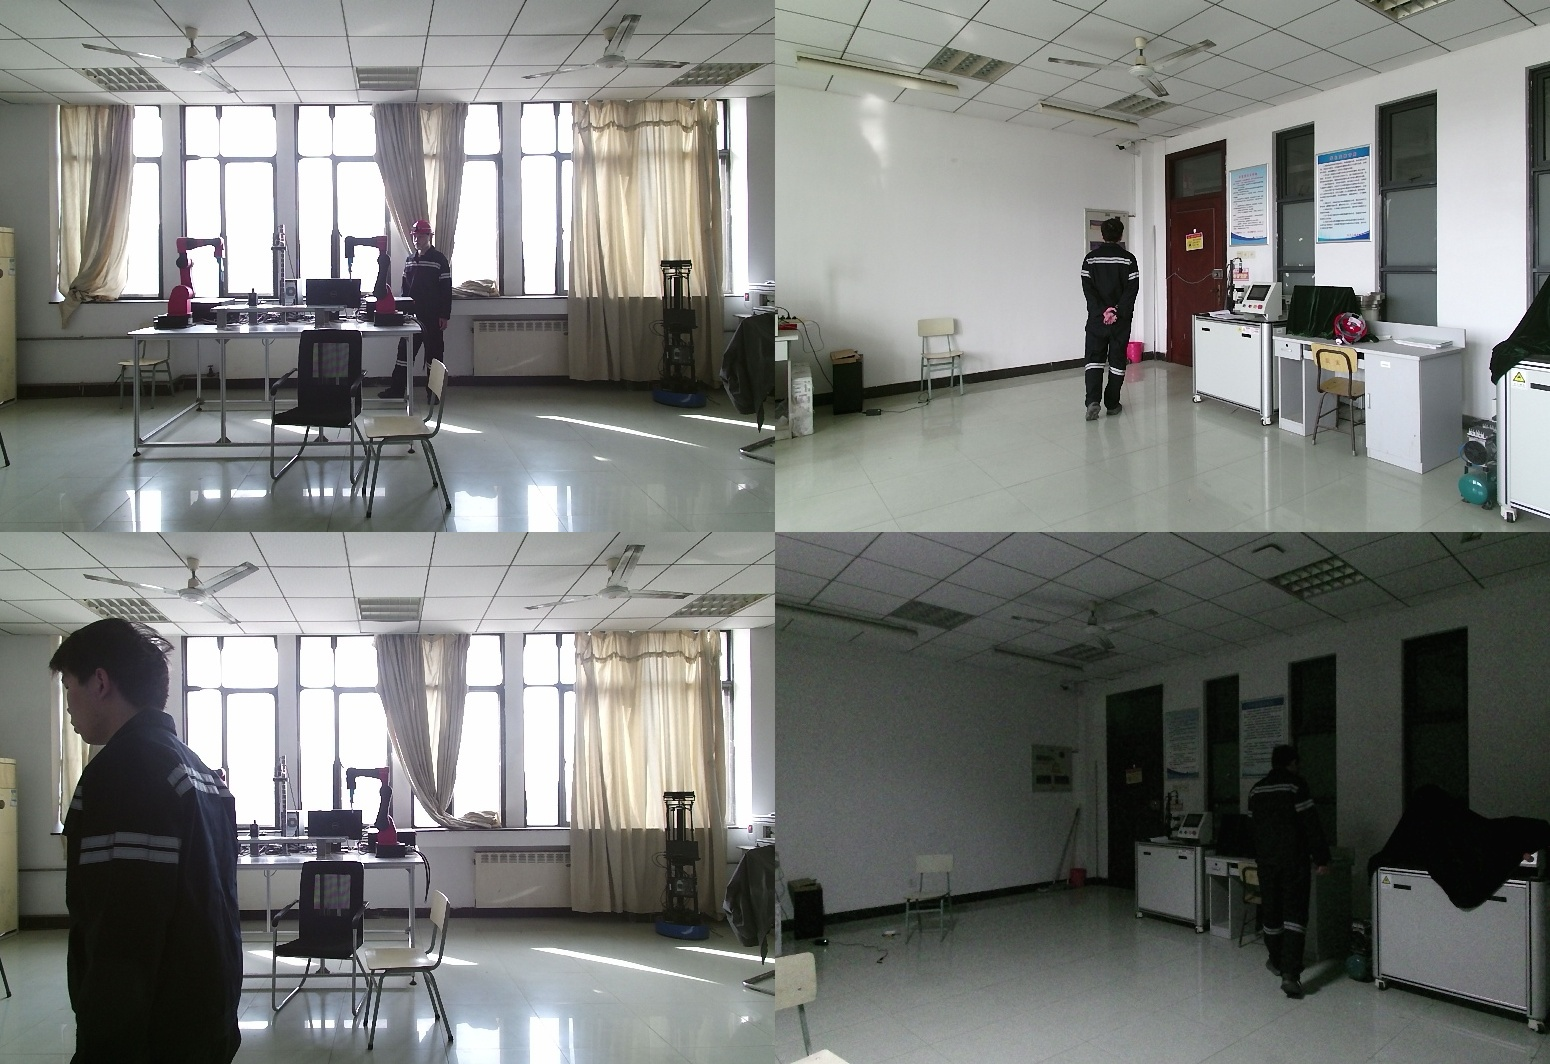person: (44, 617, 254, 1064), (1246, 744, 1343, 998), (1074, 217, 1143, 426), (396, 222, 444, 409)
